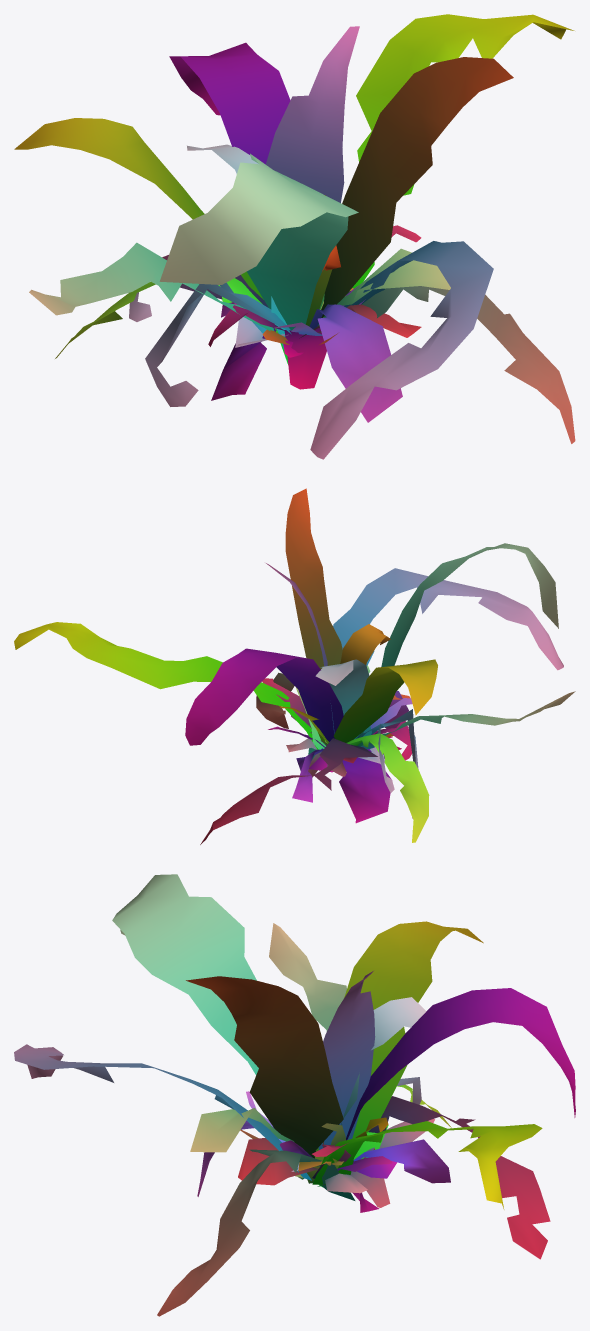
Rendered from Fern_sbslY_High_sbslY_VarC_LOD1.fbx.
3 renders of one model, top to bottom at view 1: azimuth 30°, elevation 25°; view 2: azimuth 150°, elevation 25°; view 3: azimuth 270°, elevation 25°, orthographic. The views are drawn at different scales.
Visible parts, largest first — view 1: _7cae_VarC_LOD1; view 2: _7cae_VarC_LOD1; view 3: _7cae_VarC_LOD1.
Boxes of the visible parts, x1,y1,x2,y2 form: _7cae_VarC_LOD1: (14,14,575,459); _7cae_VarC_LOD1: (14,488,575,844); _7cae_VarC_LOD1: (14,874,575,1316).
Bounding box in the file's own units: 164 × 86.26 × 137.
